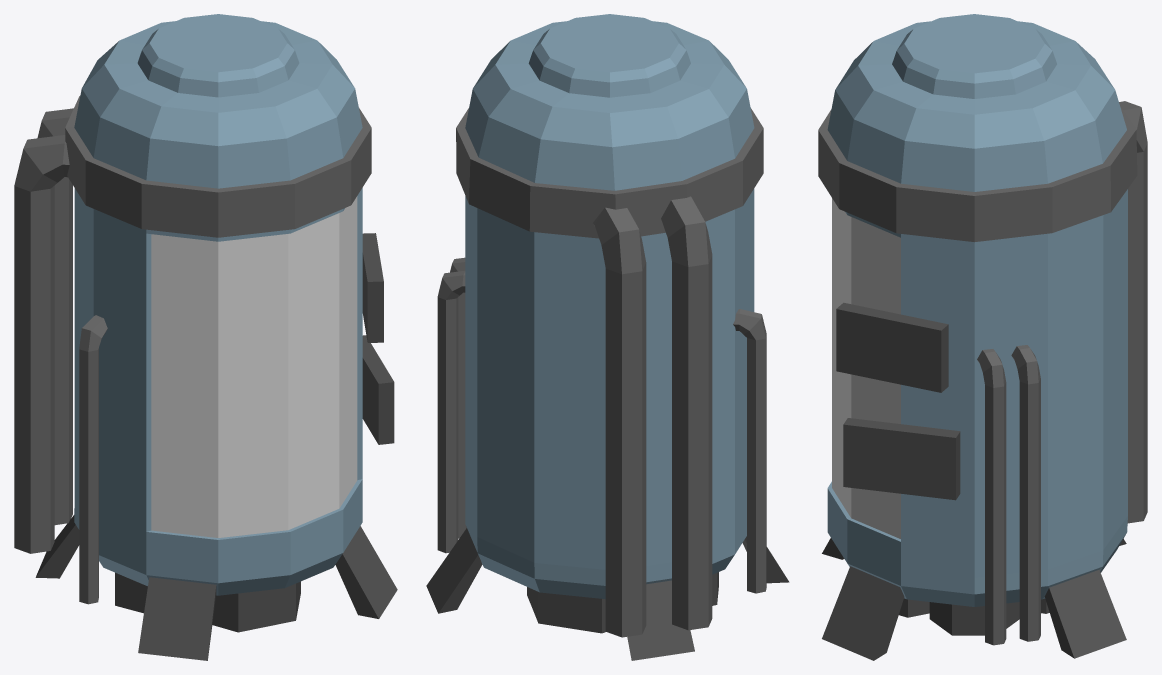
The picture shows the model from 3 angles, left to right: view 1: azimuth 30°, elevation 25°; view 2: azimuth 150°, elevation 25°; view 3: azimuth 270°, elevation 25°; orthographic projection.
Visible parts, largest first — view 1: Cylinder, Cylinder.012, Cylinder.006, Cylinder.005, Cylinder.003, Cylinder.008, Cube, Cube.001, Cylinder.009; view 2: Cylinder, Cylinder.005, Cylinder.006, Cylinder.002, Cylinder.003, Cylinder.010, Cylinder.001; view 3: Cylinder, Cylinder.012, Cube, Cube.001, Cylinder.005, Cylinder.002, Cylinder.001, Cylinder.007.
Boxes of the visible parts, left/top/right/bottom form: Cylinder: left=35, top=14, right=397, bottom=660; Cylinder.012: left=151, top=196, right=357, bottom=537; Cylinder.006: left=14, top=135, right=69, bottom=553; Cylinder.005: left=37, top=108, right=73, bottom=525; Cylinder.003: left=79, top=315, right=107, bottom=604; Cylinder.008: left=212, top=581, right=300, bottom=632; Cube: left=362, top=335, right=394, bottom=444; Cube.001: left=362, top=233, right=383, bottom=342; Cylinder.009: left=115, top=572, right=147, bottom=613; Cylinder: left=426, top=14, right=789, bottom=660; Cylinder.005: left=593, top=207, right=646, bottom=637; Cylinder.006: left=661, top=196, right=712, bottom=630; Cylinder.002: left=437, top=271, right=465, bottom=553; Cylinder.003: left=733, top=309, right=766, bottom=593; Cylinder.010: left=527, top=587, right=605, bottom=633; Cylinder.001: left=450, top=257, right=466, bottom=538; Cylinder: left=818, top=14, right=1137, bottom=660; Cylinder.012: left=832, top=198, right=900, bottom=538; Cube: left=843, top=418, right=960, bottom=500; Cube.001: left=836, top=302, right=948, bottom=392; Cylinder.005: left=1119, top=101, right=1147, bottom=523; Cylinder.002: left=1011, top=345, right=1040, bottom=641; Cylinder.001: left=977, top=349, right=1006, bottom=645; Cylinder.007: left=929, top=602, right=1019, bottom=635.
Bounding box in the file's own units: 277 × 476 × 257.
